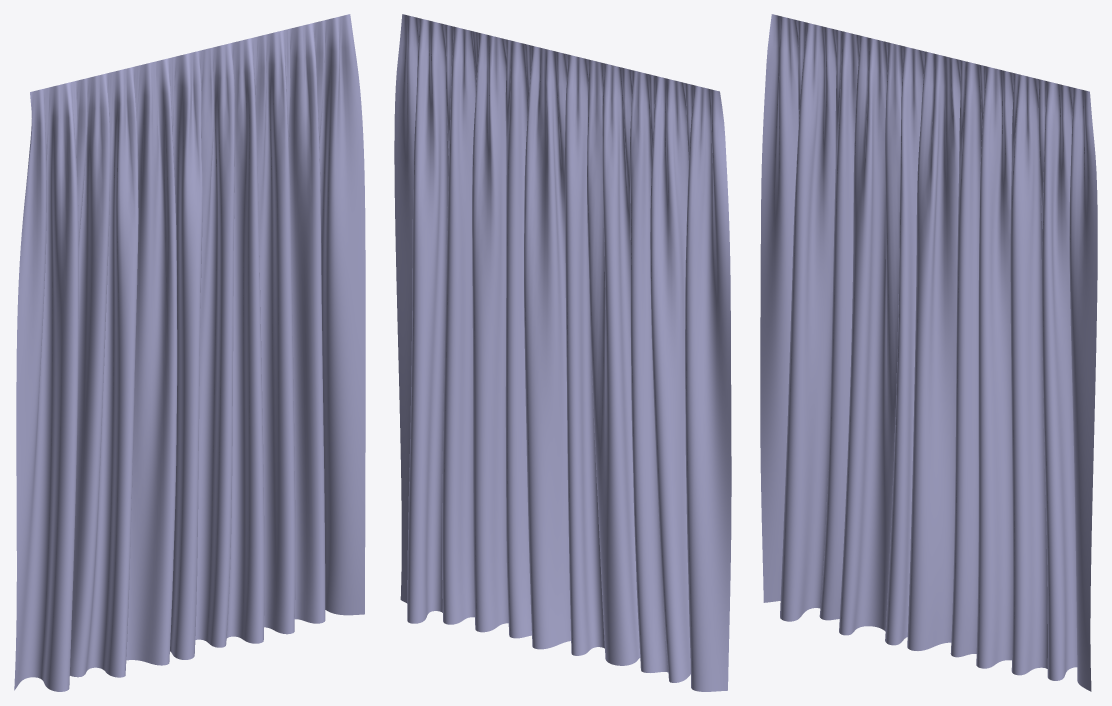
The model's file is curtain_wool.glb.
3 views of the same model, side by side, from view 1: azimuth 30°, elevation 25°; view 2: azimuth 150°, elevation 25°; view 3: azimuth 330°, elevation 25° (orthographic).
Parts seen in each view (by area): view 1: Plane001; view 2: Plane001; view 3: Plane001.
Part boxes in pixels (bbox=[...]): Plane001: bbox=[14, 14, 365, 691]; Plane001: bbox=[394, 14, 731, 691]; Plane001: bbox=[760, 14, 1097, 691].
Bounding box in the file's own units: 1.84 × 3.05 × 0.2463.
